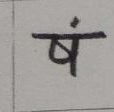anusvara: (72, 17, 79, 26)
